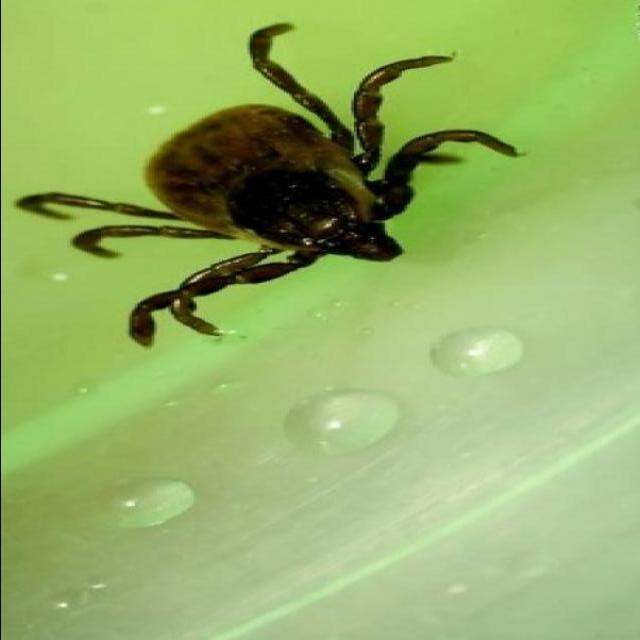Rhipicephalus Sanguineus-F: (16, 23, 519, 349)
